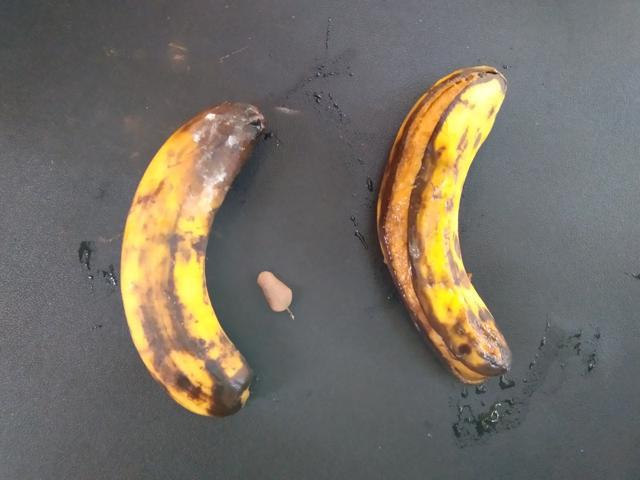rotten: (97, 92, 289, 432), (358, 36, 532, 398)
